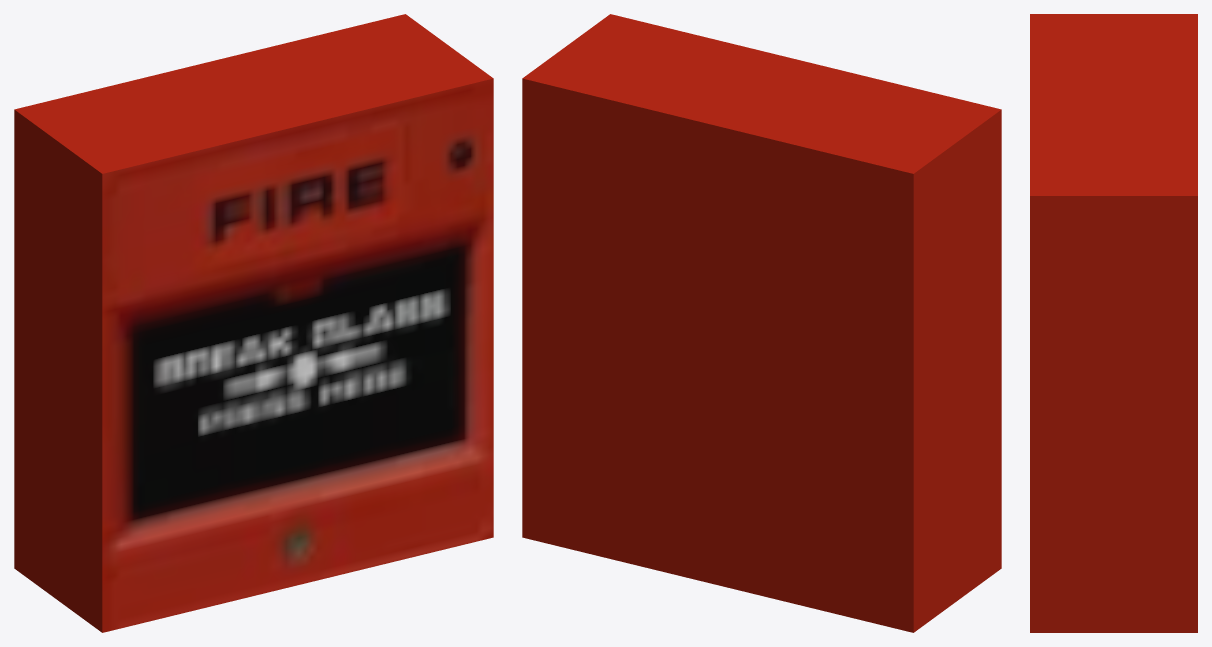
File: BR_Fire_alarm.glb
The picture shows the model from 3 angles, left to right: view 1: azimuth 30°, elevation 25°; view 2: azimuth 150°, elevation 25°; view 3: azimuth 270°, elevation 25°; orthographic projection. The views are drawn at different scales.
Parts seen in each view (by area): view 1: Fire alarm; view 2: Fire alarm; view 3: Fire alarm.
Part boxes in pixels (x1,y1,x2,y2): Fire alarm: (14,14,493,632); Fire alarm: (522,14,1001,632); Fire alarm: (1030,14,1197,632).
Size of the model in its own units: 0.1224 by 0.1372 by 0.0477.
1 material, 1 textured.
